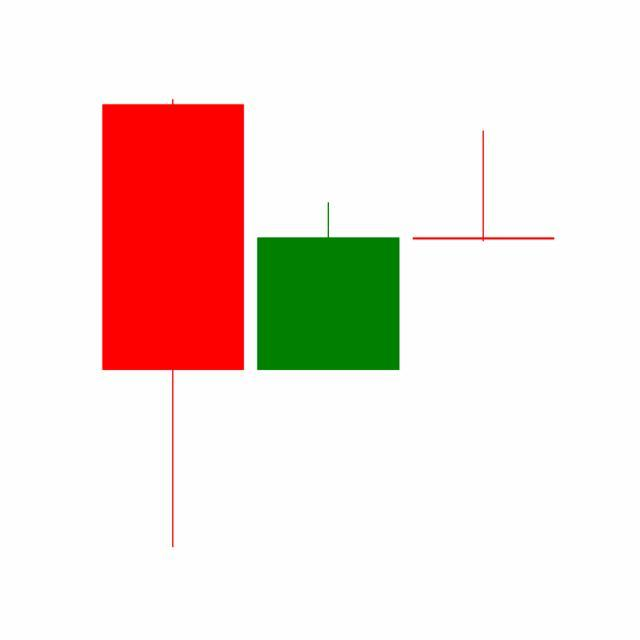Spinning Top: (406, 129, 562, 244)
